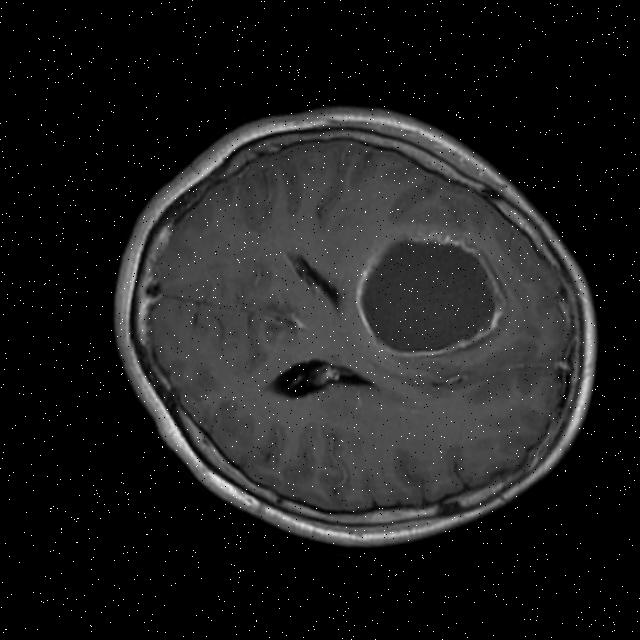Glioma: (337, 216, 523, 377)
